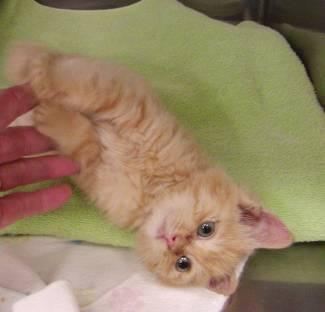cat: (6, 43, 291, 294)
